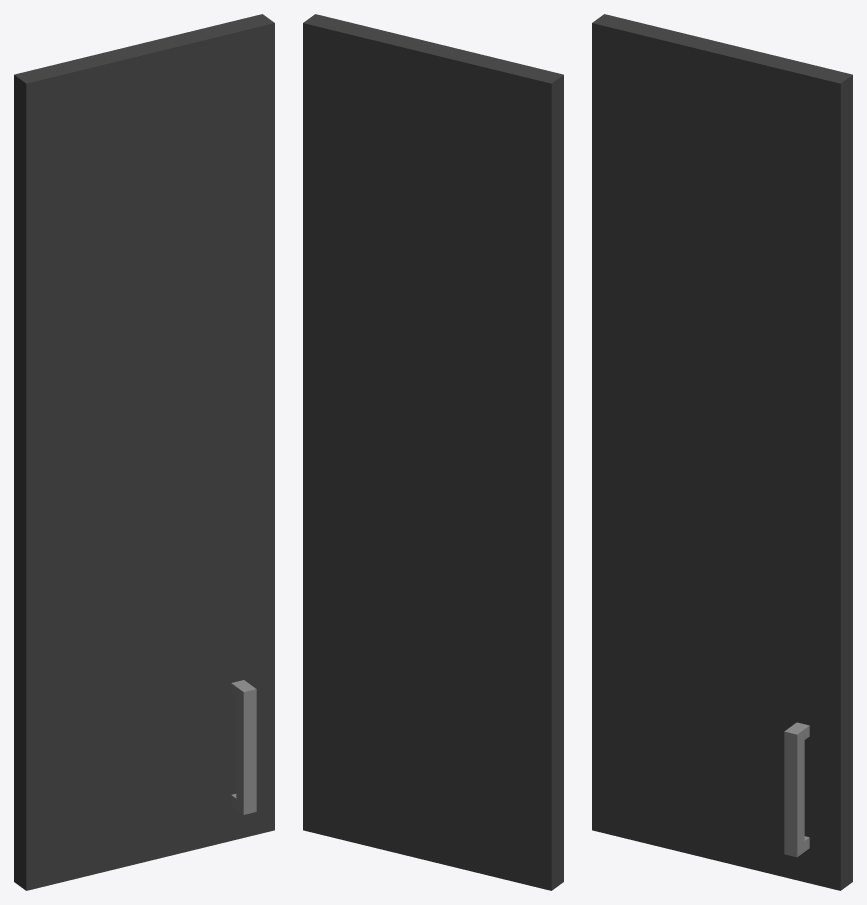
File: Door1_C3_14.fbx
The picture shows the model from 3 angles, left to right: view 1: azimuth 30°, elevation 25°; view 2: azimuth 150°, elevation 25°; view 3: azimuth 330°, elevation 25°; orthographic projection.
Parts seen in each view (by area): view 1: Door1_C3_14; view 2: Door1_C3_14; view 3: Door1_C3_14.
Part boxes in pixels (x1,y1,x2,y2): Door1_C3_14: [14, 14, 274, 890]; Door1_C3_14: [303, 14, 563, 890]; Door1_C3_14: [592, 14, 852, 890].
Size of the model in its own units: 29 by 90 by 5.03.
